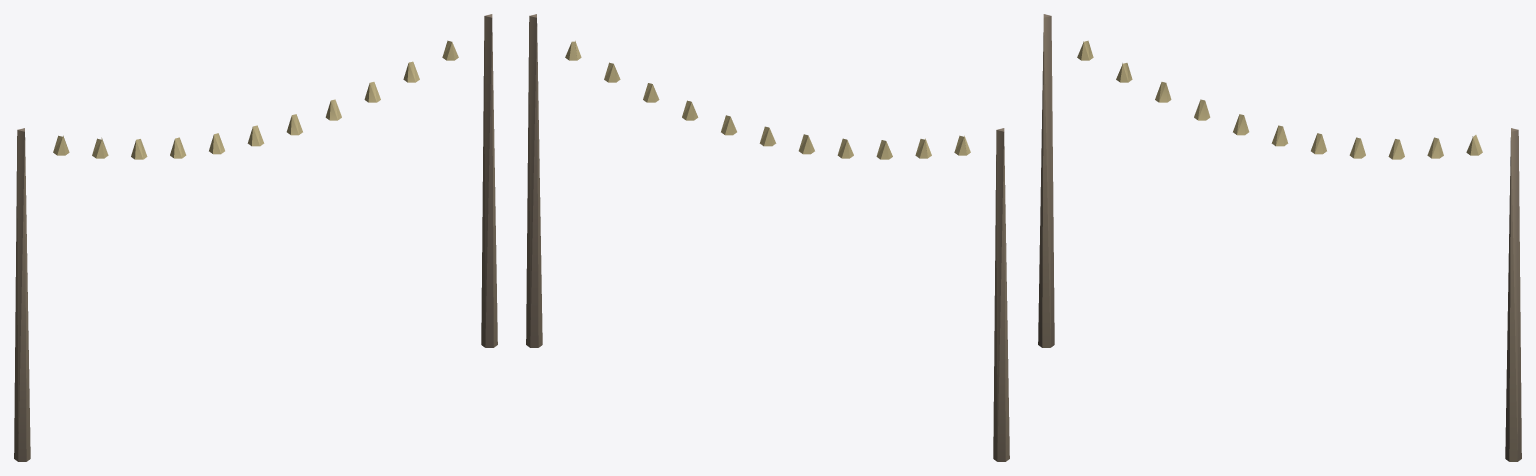
The model's file is lights.lod1.glb.
3 views of the same model, side by side, from view 1: azimuth 30°, elevation 25°; view 2: azimuth 150°, elevation 25°; view 3: azimuth 330°, elevation 25° (orthographic).
Bounding box in the file's own units: 5.34 × 3.5 × 0.16.
